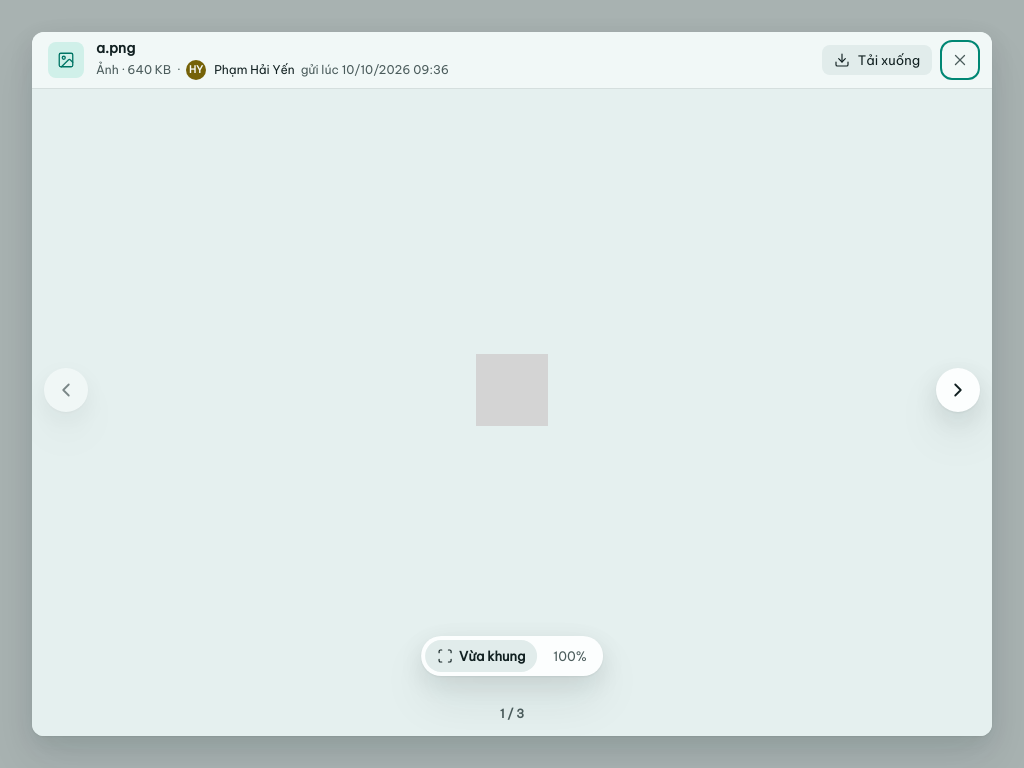
Test: FileViewer navigation › walks with the buttons and announces the file
The image size is (1024, 768).
Step 1. Click the button named "Tệp sau" → (958, 390), box 936,368 -> 980,412
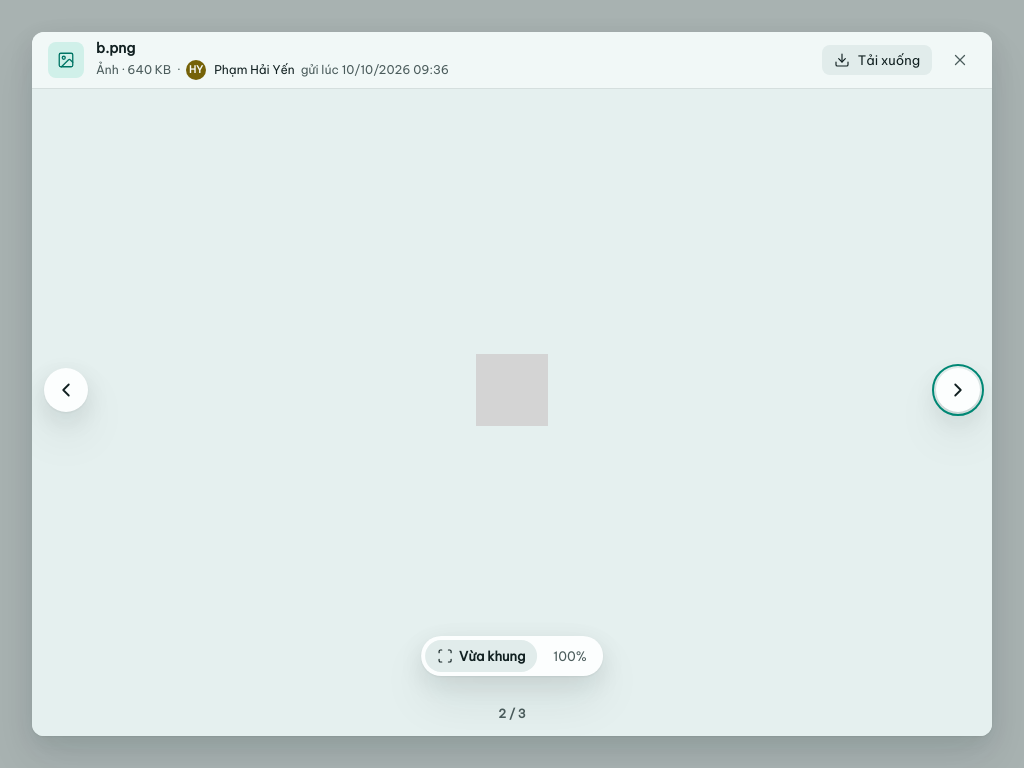
Expected: the dialog named "b.png" is shown
